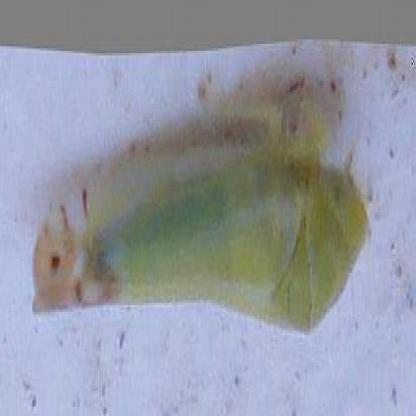green-leafhopper: (40, 138, 362, 328)
